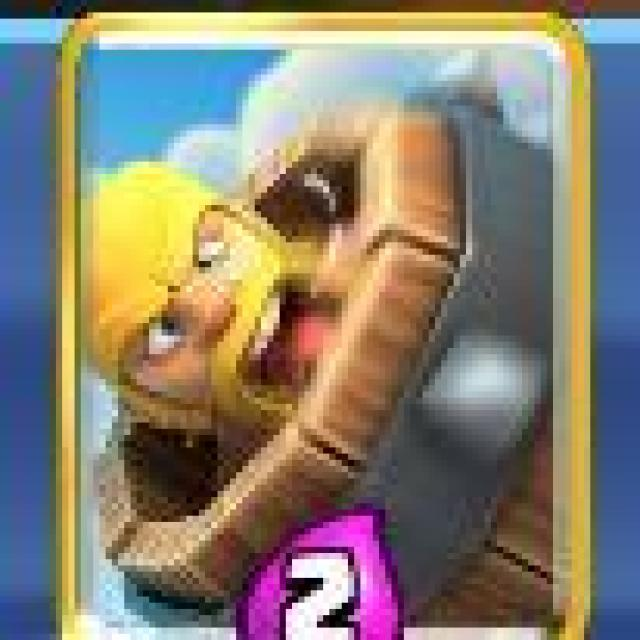Barbarian_Barrel: (56, 12, 597, 640)
